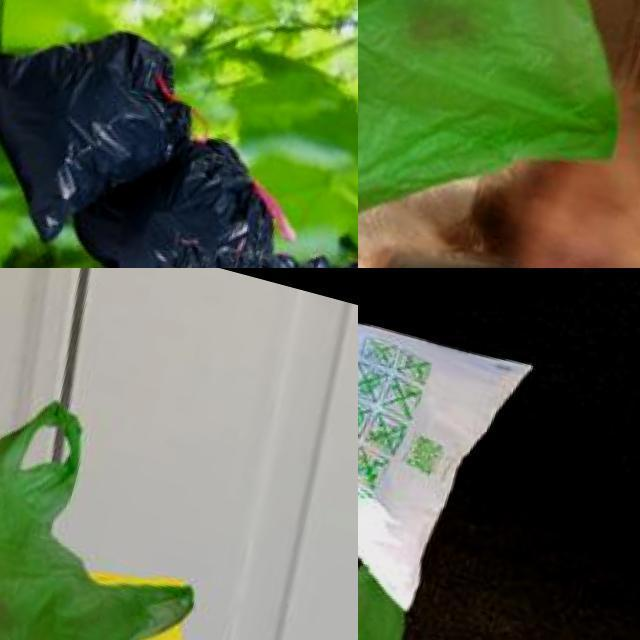waste: (358, 0, 640, 268), (0, 360, 230, 640), (358, 275, 531, 618), (0, 0, 204, 268), (54, 118, 296, 268), (0, 514, 238, 640), (151, 234, 215, 268), (204, 242, 265, 268), (253, 253, 302, 268), (294, 256, 343, 268)
